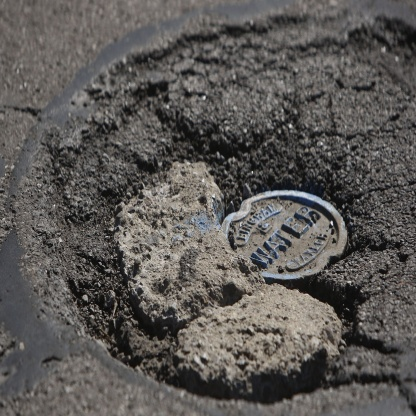pothole: (15, 15, 416, 410)
